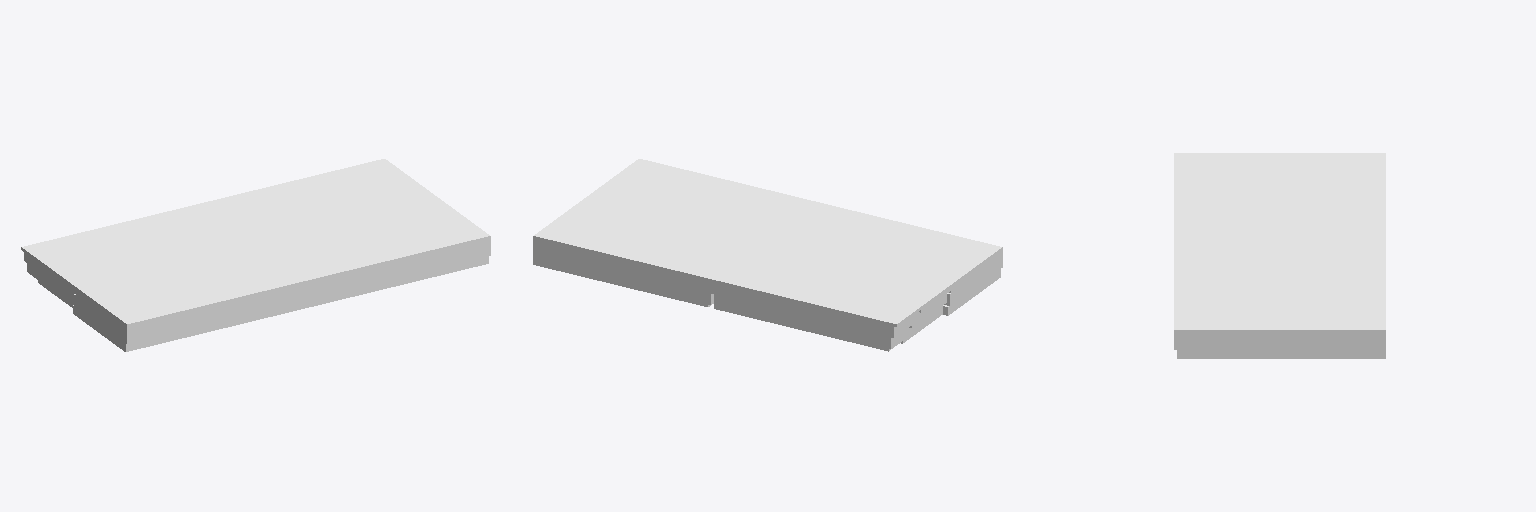
Rendered from IslandWeg.obj.
3 renders of one model, left to right at view 1: azimuth 30°, elevation 25°; view 2: azimuth 150°, elevation 25°; view 3: azimuth 270°, elevation 25°, orthographic.
Visible parts, largest first — view 1: object 1; view 2: object 1; view 3: object 1.
Boxes of the visible parts, x1,y1,x2,y2 form: object 1: [21, 159, 490, 351]; object 1: [533, 159, 1002, 351]; object 1: [1174, 153, 1385, 358].
Bounding box in the file's own units: 13.1 × 1 × 6.6.